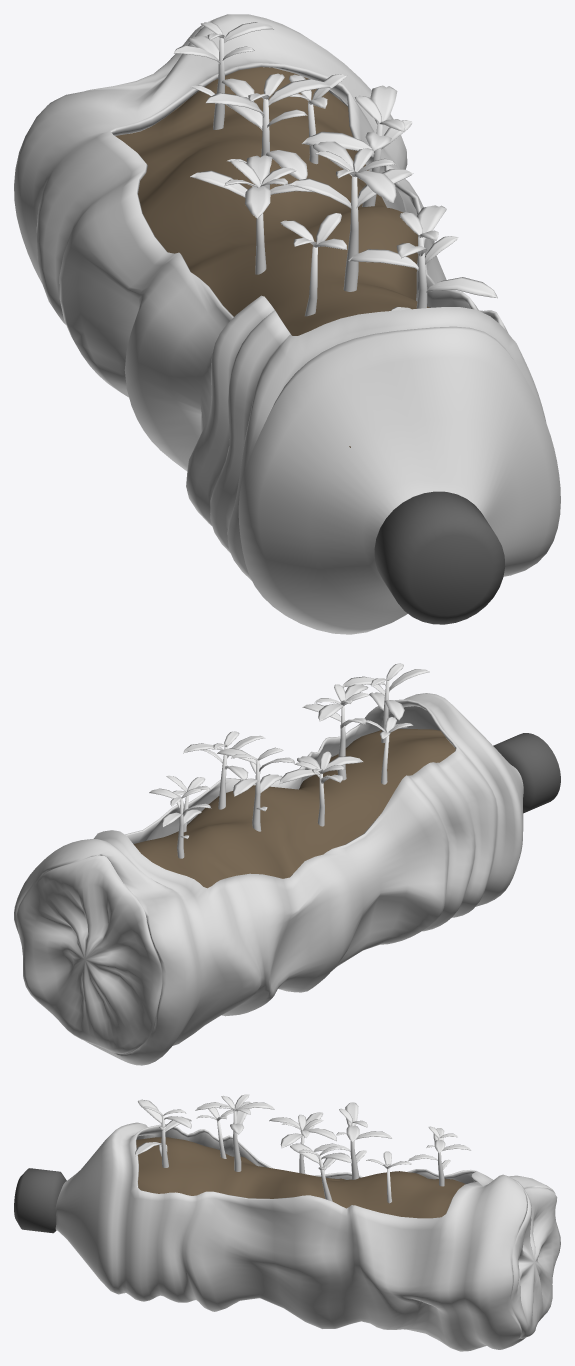
File: bottle_repurposed.fbx
The picture shows the model from 3 angles, top to bottom: view 1: azimuth 30°, elevation 25°; view 2: azimuth 150°, elevation 25°; view 3: azimuth 270°, elevation 25°; orthographic projection. The views are drawn at different scales.
Parts seen in each view (by area): view 1: Cylinder, Cylinder.003, Cylinder.001, Cylinder.020, Cylinder.066, Cylinder.068; view 2: Cylinder, Cylinder.003, Cylinder.001; view 3: Cylinder, Cylinder.003, Cylinder.001.
Boxes of the visible parts, box(x1,y1,x2,y2) form: Cylinder: box(14, 14, 560, 634); Cylinder.003: box(115, 67, 429, 447); Cylinder.001: box(374, 491, 505, 624); Cylinder.020: box(343, 176, 358, 291); Cylinder.066: box(426, 277, 497, 298); Cylinder.068: box(348, 249, 418, 270); Cylinder: box(14, 693, 523, 1065); Cylinder.003: box(133, 728, 455, 888); Cylinder.001: box(493, 733, 560, 813); Cylinder: box(55, 1122, 560, 1351); Cylinder.003: box(136, 1137, 465, 1218); Cylinder.001: box(14, 1168, 66, 1233).
Size of the model in its own units: 295 by 240 by 555.
